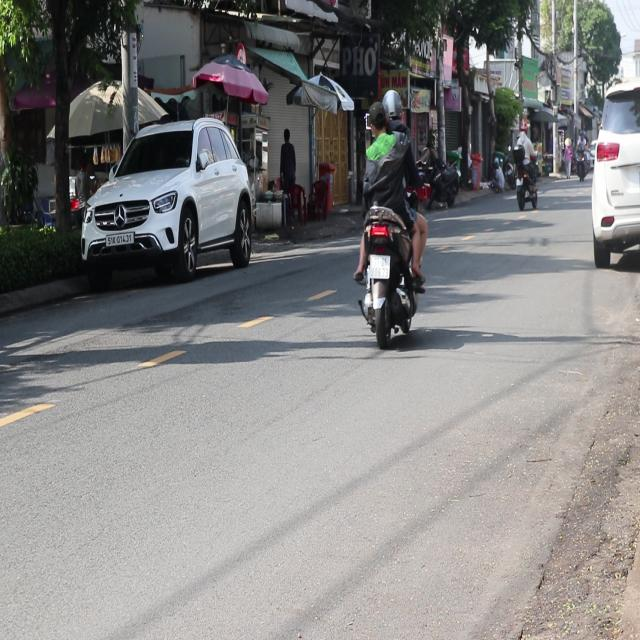helmet: (381, 87, 403, 127)
licenseplate: (352, 85, 428, 347)
motorcyclist: (366, 99, 386, 136)
nohelmet: (369, 254, 390, 278)
